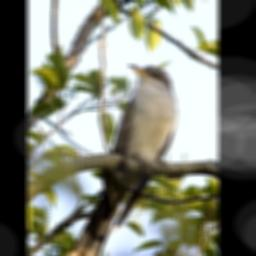Cuckoo: (66, 64, 178, 256)
